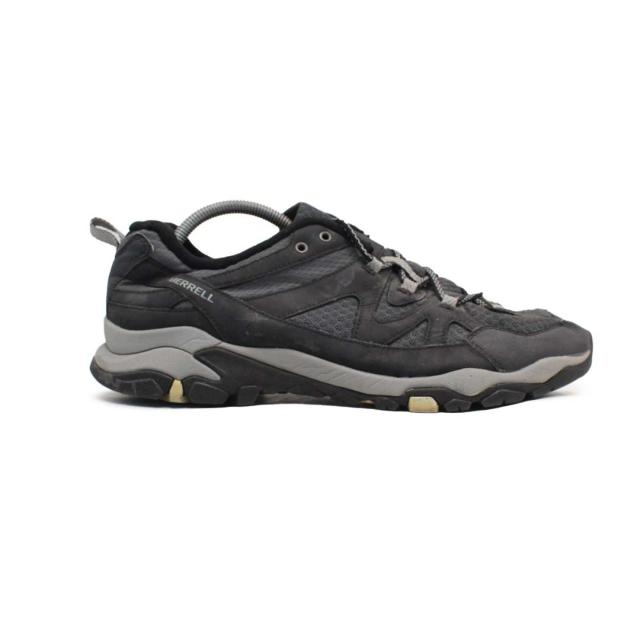heel: (87, 215, 159, 331)
midsole: (92, 317, 593, 414)
uppersole: (155, 206, 592, 379)
